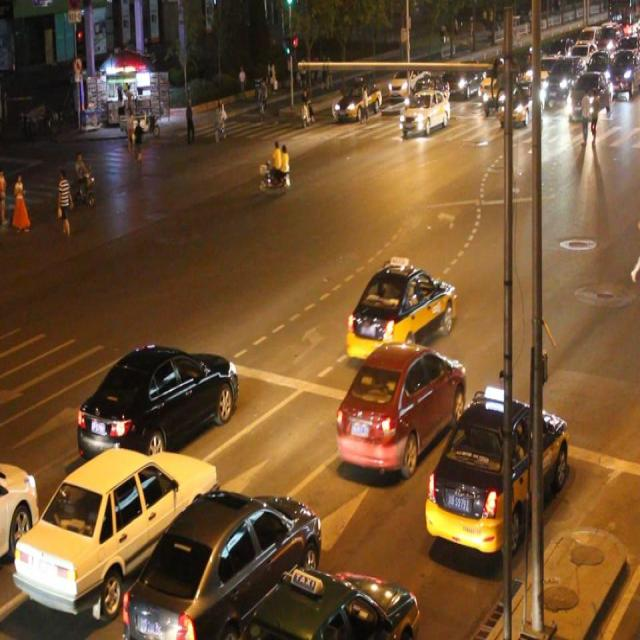car: (14, 441, 217, 617), (122, 486, 323, 640), (421, 392, 570, 556), (76, 340, 235, 464), (334, 338, 466, 474), (239, 566, 419, 640), (345, 263, 455, 363), (0, 460, 40, 559), (398, 89, 450, 137)
